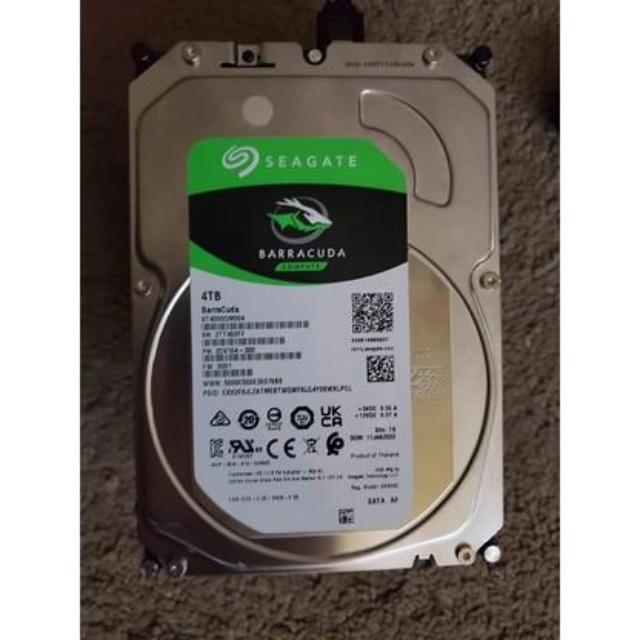DISK: (124, 12, 504, 577)
